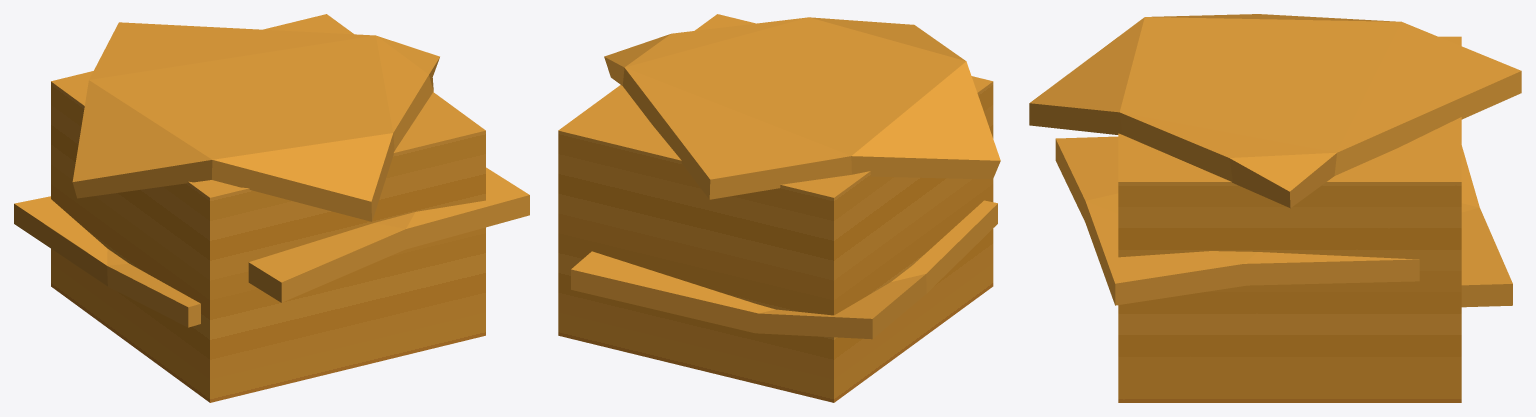
The model's file is SM_Prop_Food_Cheese_Stack_01.glb.
The picture shows the model from 3 angles, left to right: view 1: azimuth 30°, elevation 25°; view 2: azimuth 150°, elevation 25°; view 3: azimuth 270°, elevation 25°; orthographic projection. The views are drawn at different scales.
Visible parts, largest first — view 1: SM_Prop_Food_Cheese_Stack_01; view 2: SM_Prop_Food_Cheese_Stack_01; view 3: SM_Prop_Food_Cheese_Stack_01.
Part boxes in pixels (left/top/right/bottom): SM_Prop_Food_Cheese_Stack_01: left=14, top=14, right=529, bottom=402; SM_Prop_Food_Cheese_Stack_01: left=558, top=14, right=1000, bottom=402; SM_Prop_Food_Cheese_Stack_01: left=1029, top=14, right=1521, bottom=402.
Bounding box in the file's own units: 0.2226 × 0.1255 × 0.2253.
Materials: 1 (1 with a texture image).
